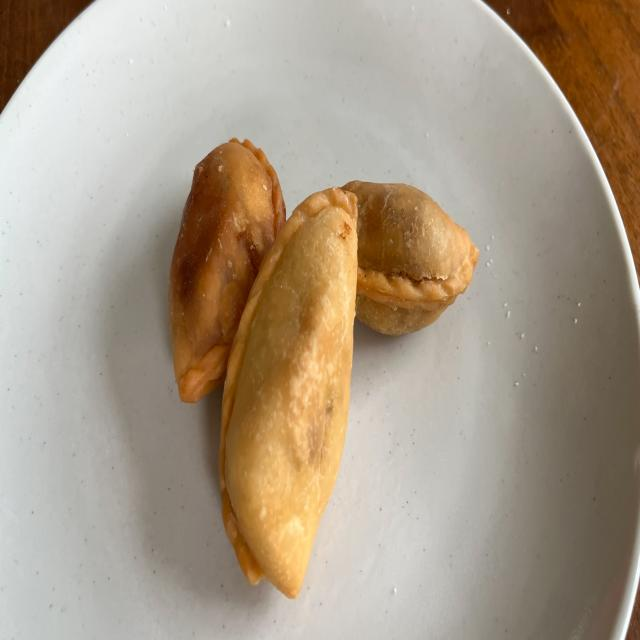karipap: (219, 189, 358, 598), (169, 138, 286, 402), (344, 180, 479, 336)
